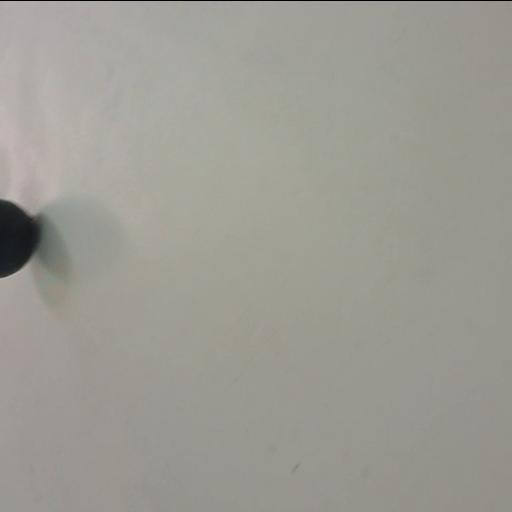dead: (0, 196, 38, 278)
